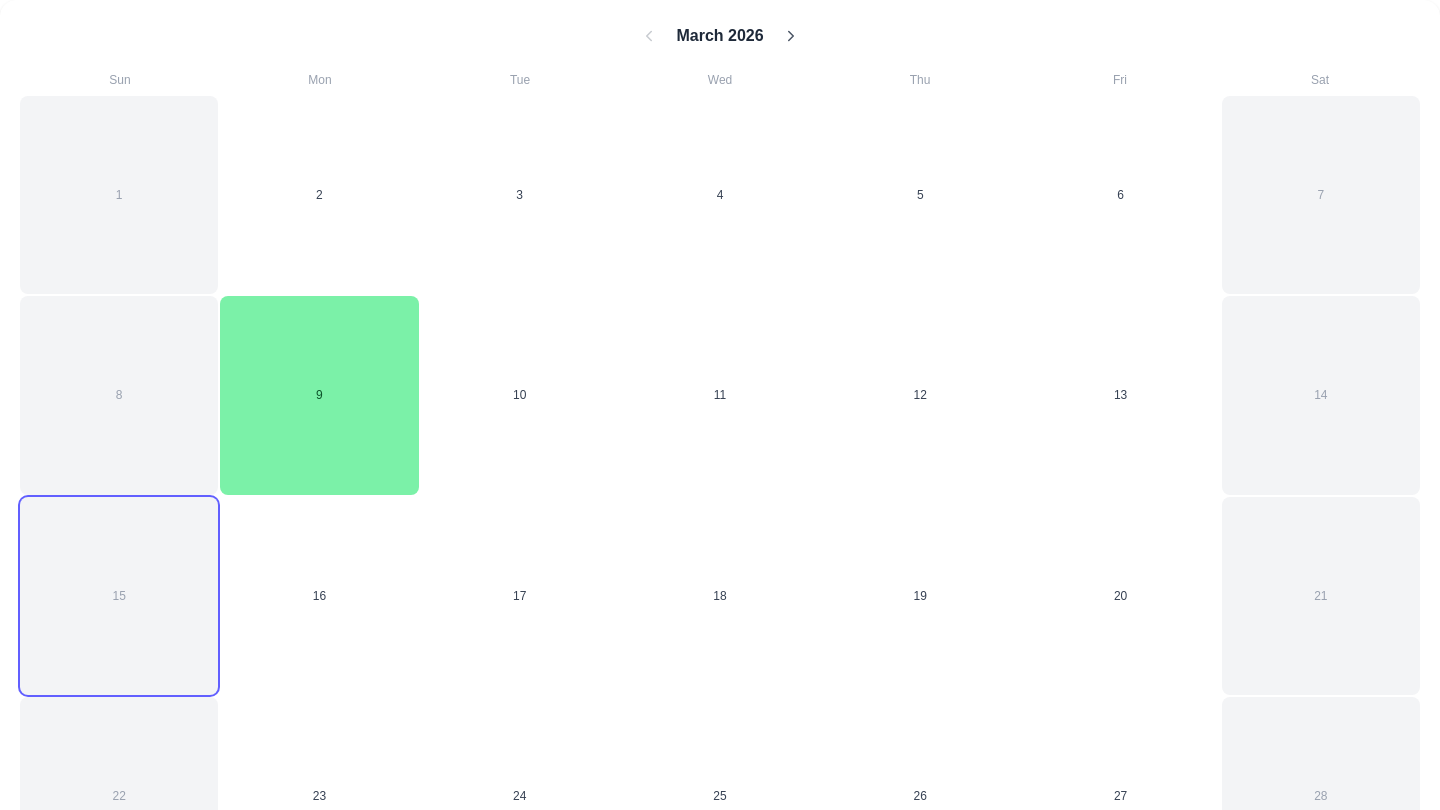
Scenario: CalendarView — leave popover on click › shows edit and delete buttons in the popover when isOwnProfile=true
The width and height of the screenshot is (1440, 810).
Click the text "9". click: (319,395)
box: [316,387,323,403]
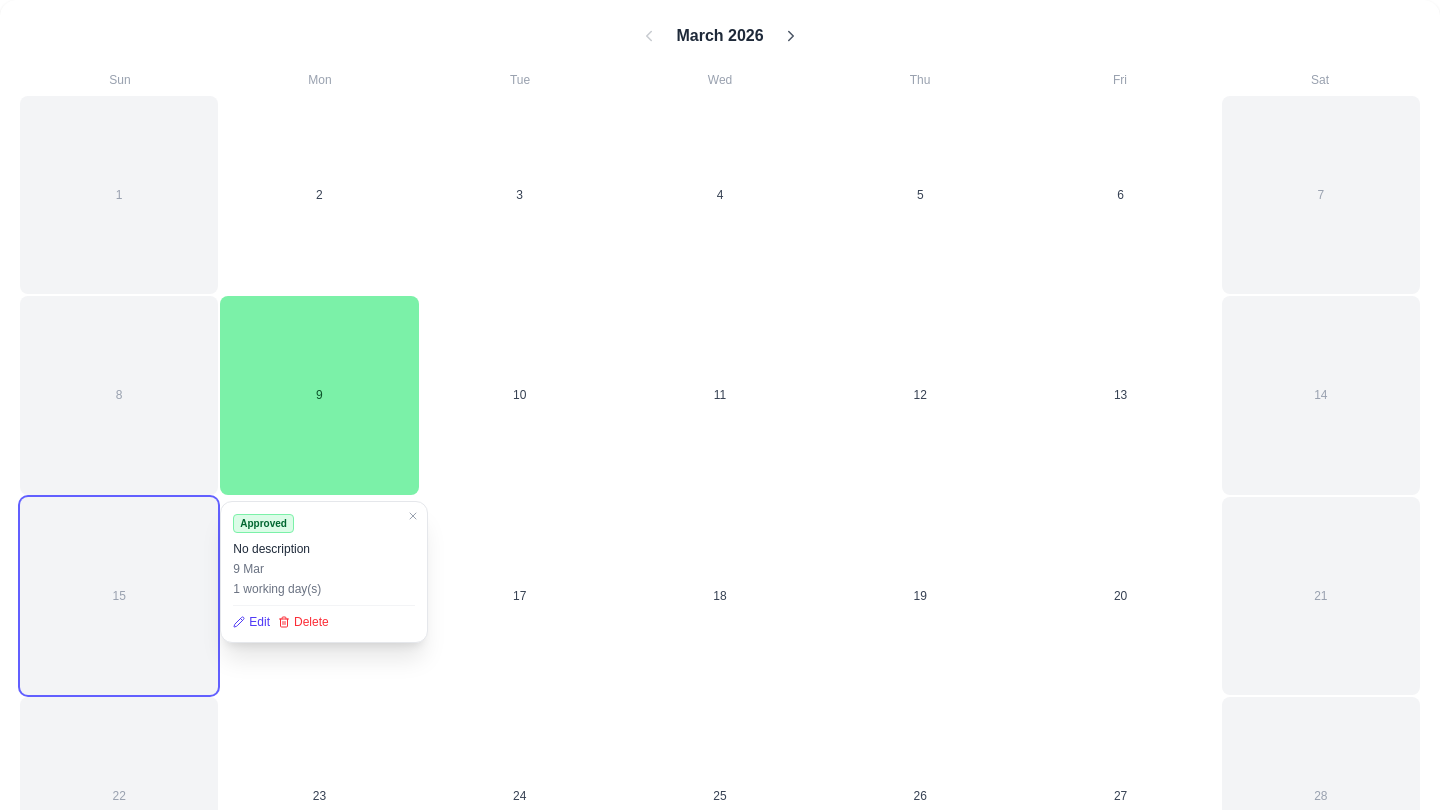
Result: the button "Edit" is shown at [233,614,270,630]
Result: the button "Delete" is shown at [278,614,329,630]
